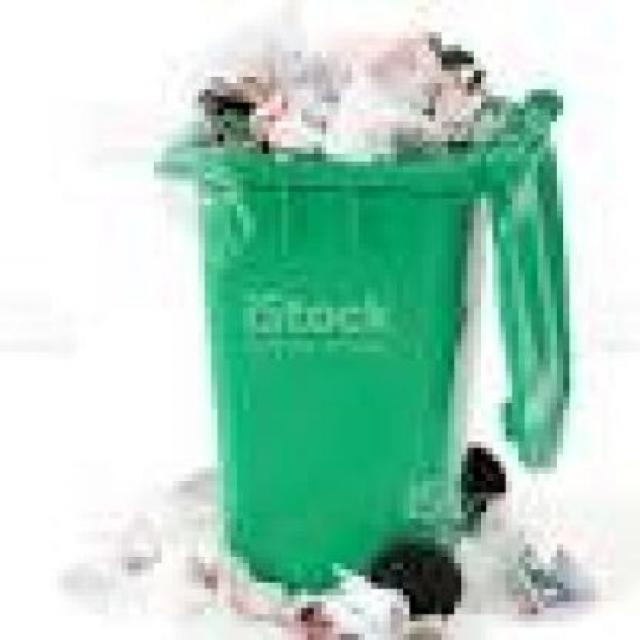garbage: (196, 34, 494, 156), (220, 571, 419, 635)
